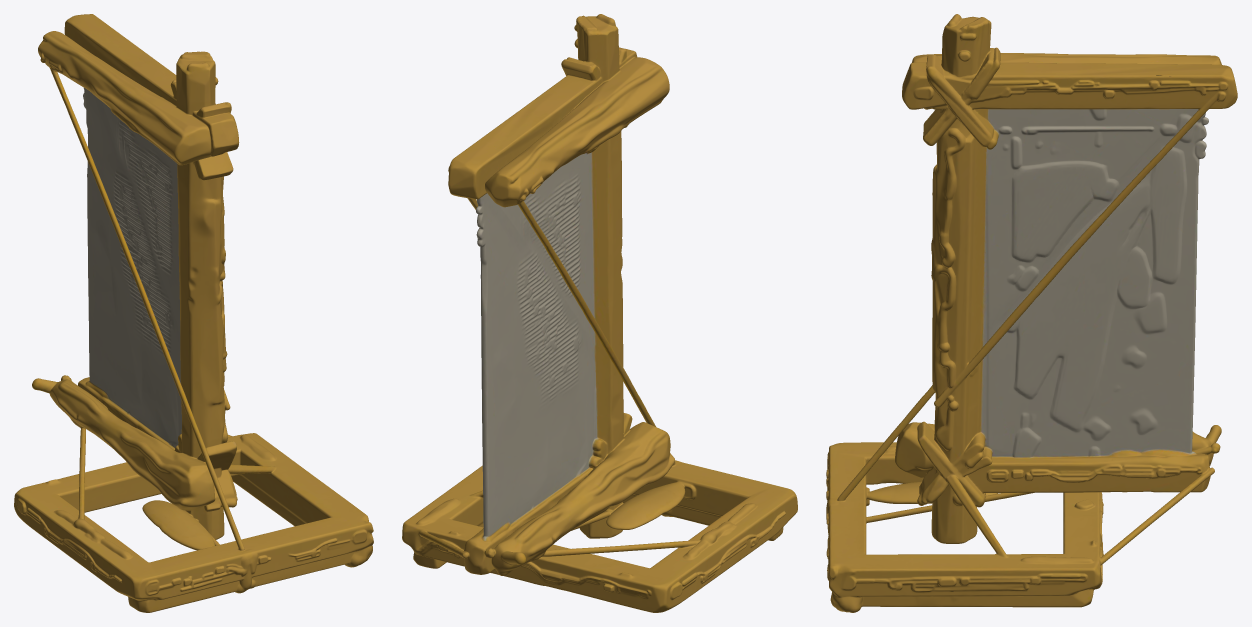
The model's file is sail.fbx.
The picture shows the model from 3 angles, left to right: view 1: azimuth 30°, elevation 25°; view 2: azimuth 150°, elevation 25°; view 3: azimuth 270°, elevation 25°; orthographic projection. The views are drawn at different scales.
Visible parts, largest first — view 1: tripo_node_bb3c8585-d7b7-4b25-bb67-72e46c8c8e08; view 2: tripo_node_bb3c8585-d7b7-4b25-bb67-72e46c8c8e08; view 3: tripo_node_bb3c8585-d7b7-4b25-bb67-72e46c8c8e08.
Boxes of the visible parts, x1,y1,x2,y2 form: tripo_node_bb3c8585-d7b7-4b25-bb67-72e46c8c8e08: (14,14,373,612); tripo_node_bb3c8585-d7b7-4b25-bb67-72e46c8c8e08: (402,14,797,612); tripo_node_bb3c8585-d7b7-4b25-bb67-72e46c8c8e08: (826,14,1237,612).
Size of the model in its own units: 51.49 by 98 by 67.83.
1 material, 1 textured.
